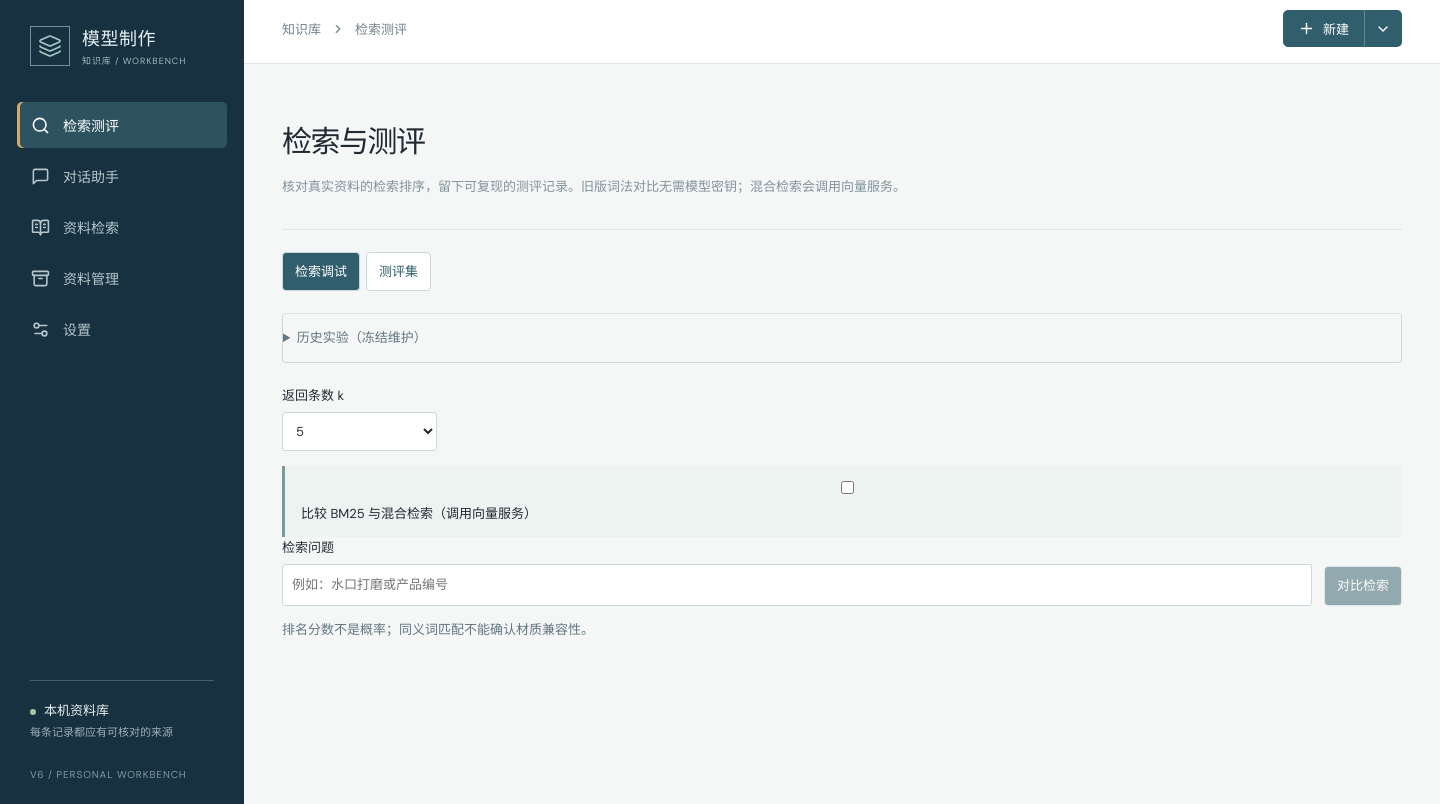
it: ignores history detail response arriving after a newer selection
Click the button "测评集" at [398, 272], box [366,252,431,291]
(page scrolled)
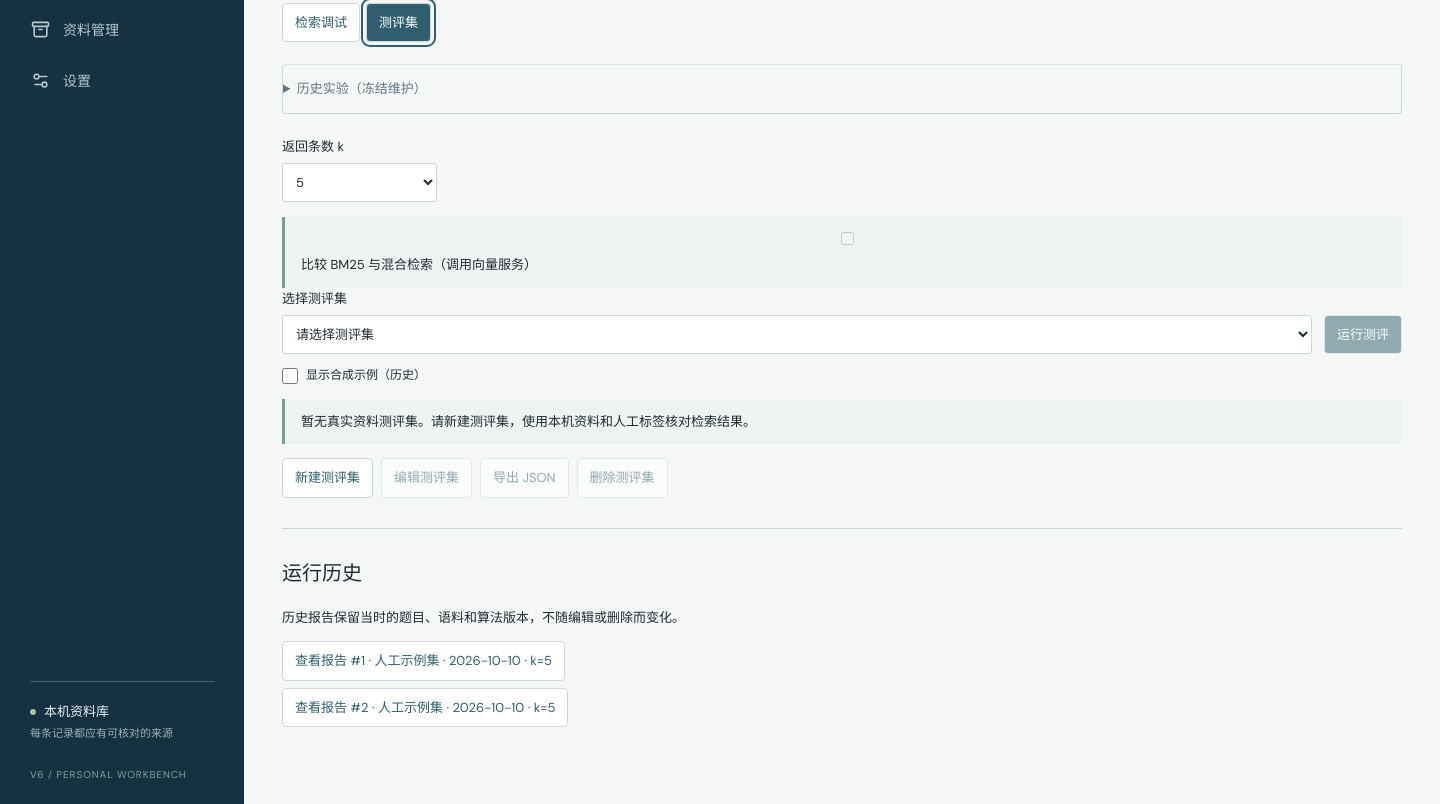
expect the dropdown labelled "选择测评集" is shown: met, box [282,315,1312,354]
Click the button "查看报告 #1 · 人工示例集 · 2026-10-10 · k=5" at [423, 661], box [282,641,565,681]
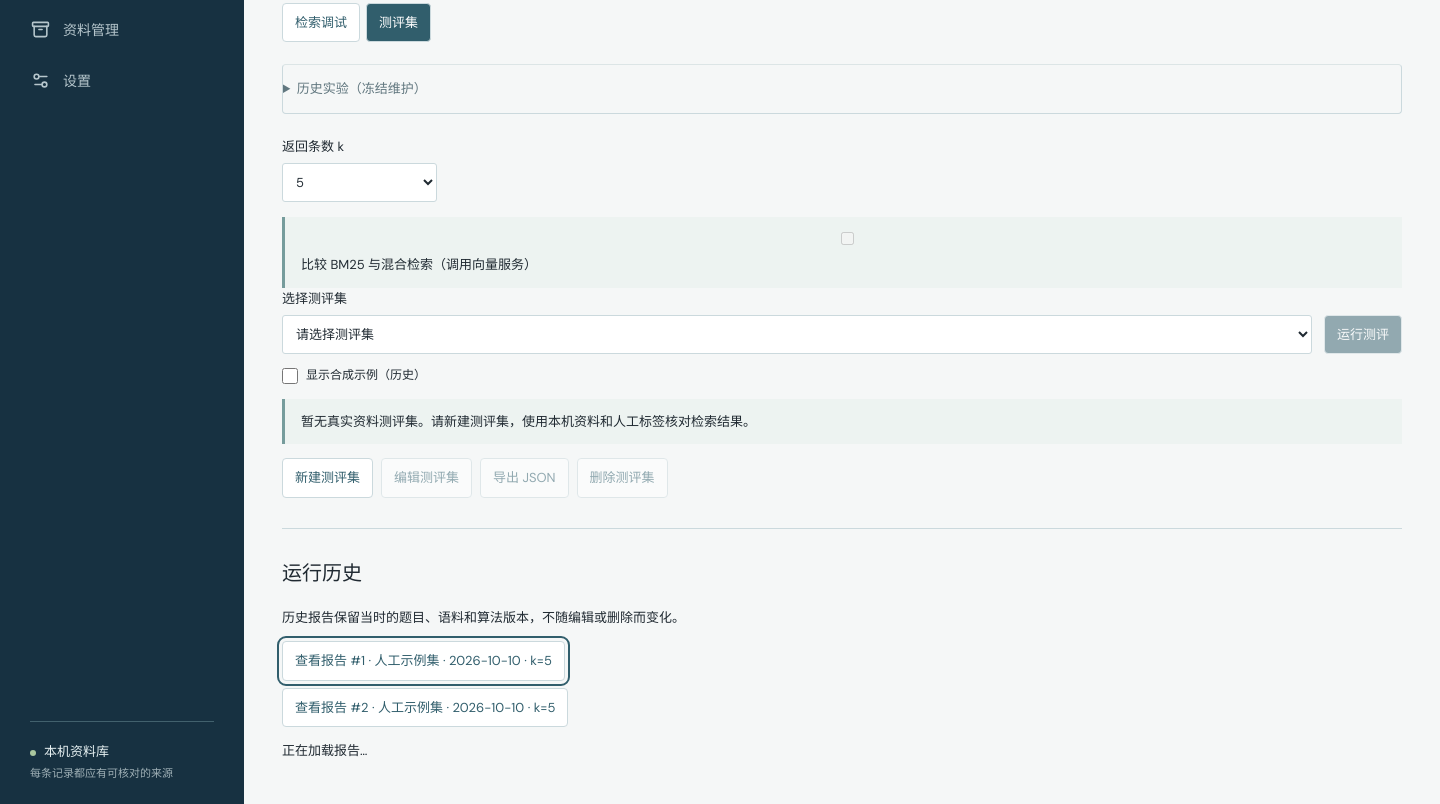
Click the button "查看报告 #2 · 人工示例集 · 2026-10-10 · k=5" at [425, 708], box [282,688,568,727]
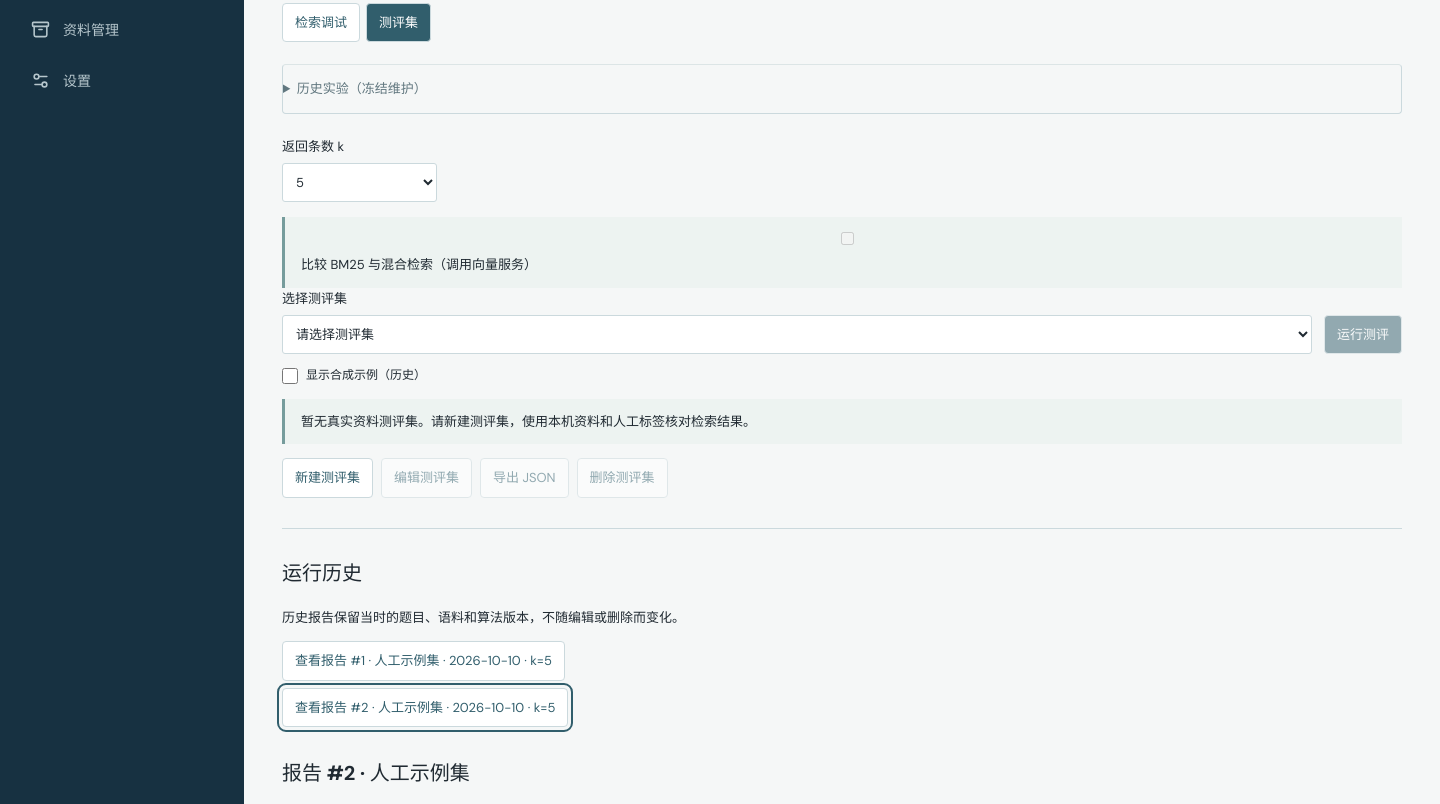
expect the heading "报告 #2 · 人工示例集" is shown: met, box [282,760,470,786]
